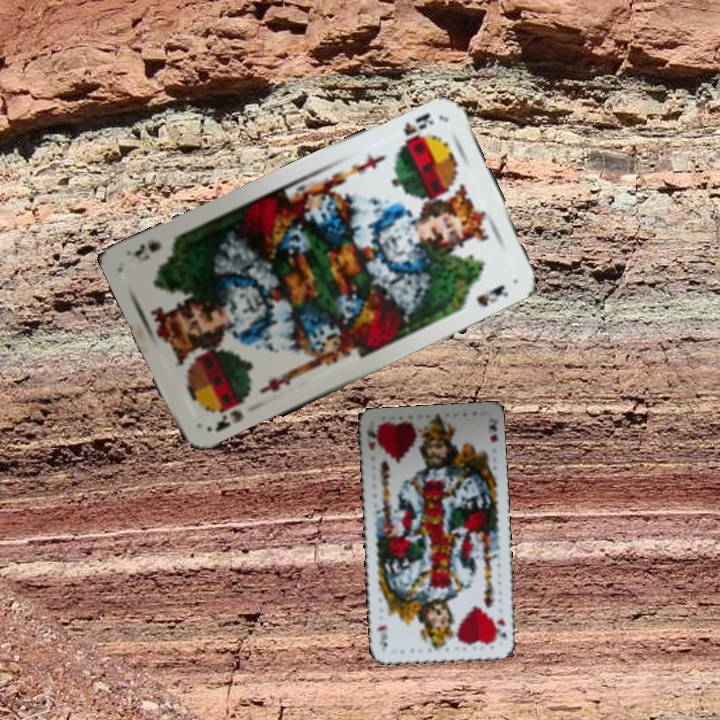HK: (363, 423, 380, 453), (492, 615, 509, 643)
SK: (393, 109, 437, 150), (211, 396, 247, 435)
